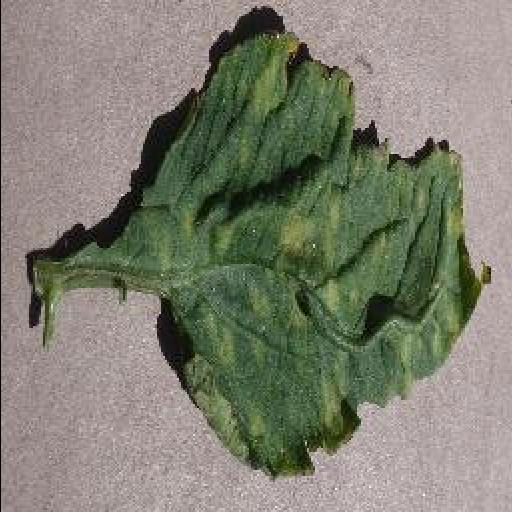disease_tomato: (140, 36, 490, 482)
